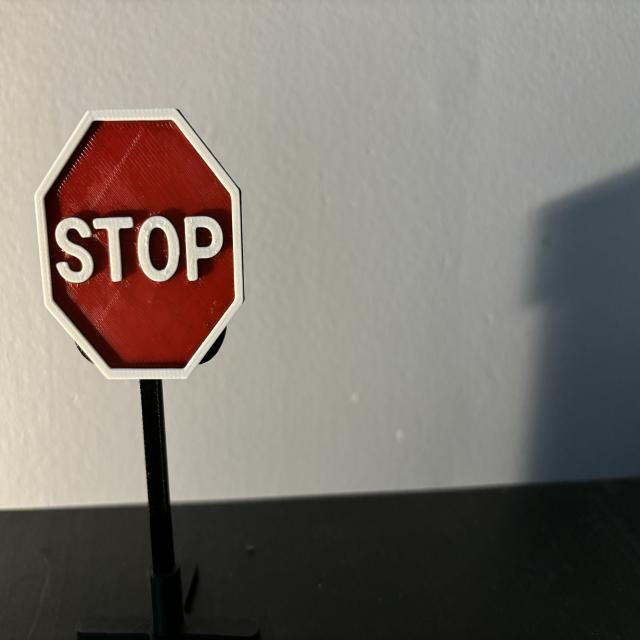sign_stop: (35, 110, 244, 380)
